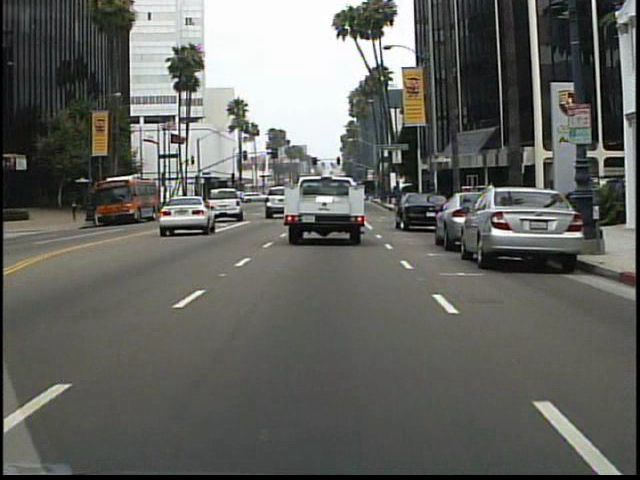person: (483, 179, 500, 221), (69, 194, 84, 228)
